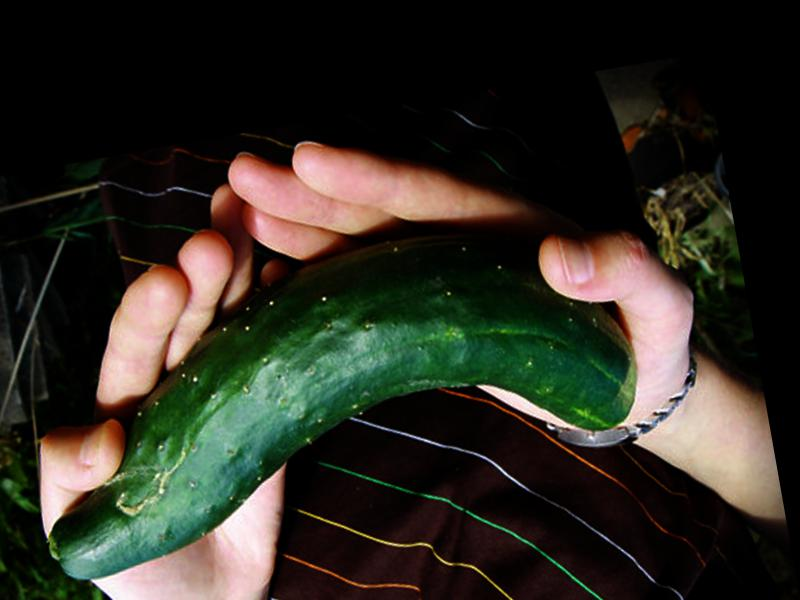Cucumber: (10, 202, 656, 585)
